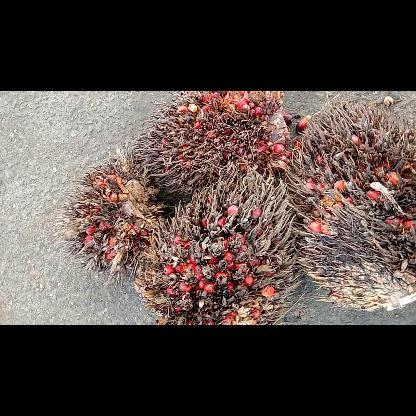Terlalu masak: (284, 100, 416, 316), (130, 164, 302, 324), (47, 145, 177, 297), (128, 91, 296, 204)
